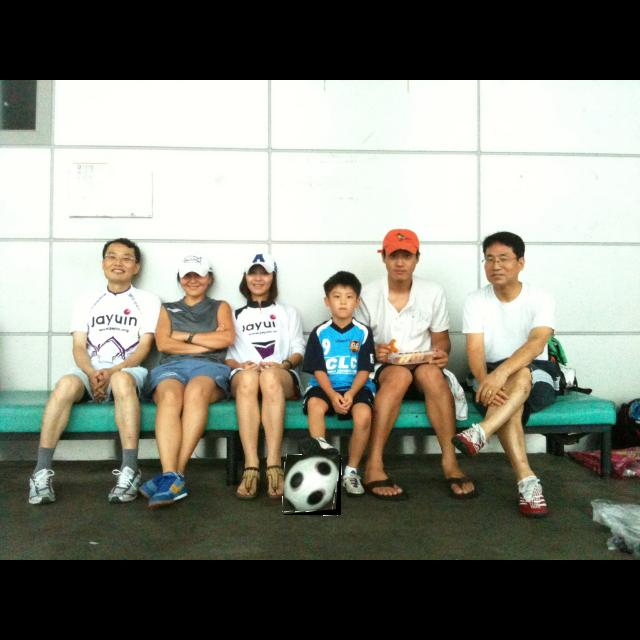Football: (283, 455, 341, 515)
